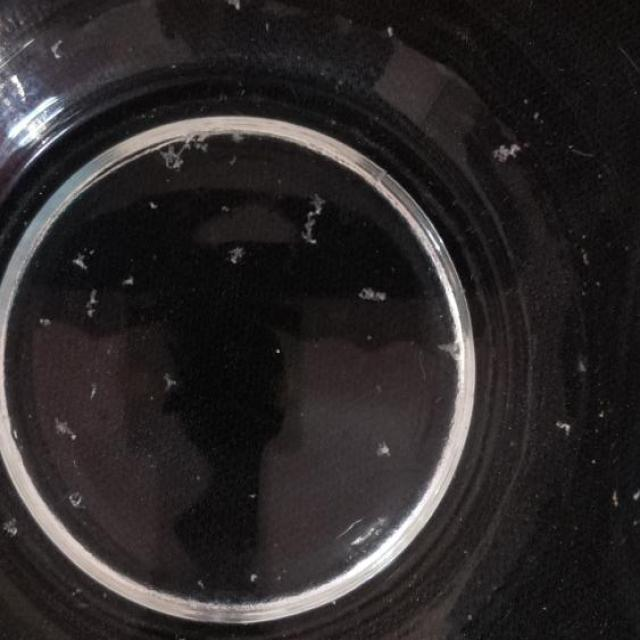fiber: (162, 133, 215, 169), (300, 192, 324, 245), (440, 340, 476, 370), (359, 282, 387, 306), (490, 144, 520, 162), (53, 420, 76, 439), (161, 371, 180, 393), (228, 245, 246, 268), (3, 515, 21, 538), (555, 416, 571, 440), (231, 127, 250, 146), (47, 40, 66, 59), (576, 356, 590, 379), (74, 254, 94, 270), (88, 293, 101, 317), (225, 1, 247, 14), (612, 489, 624, 512), (377, 442, 391, 459), (148, 198, 160, 216), (38, 314, 52, 328), (249, 568, 258, 588), (67, 493, 83, 504), (121, 276, 138, 286), (89, 378, 96, 401), (273, 346, 285, 358), (387, 22, 395, 36)
